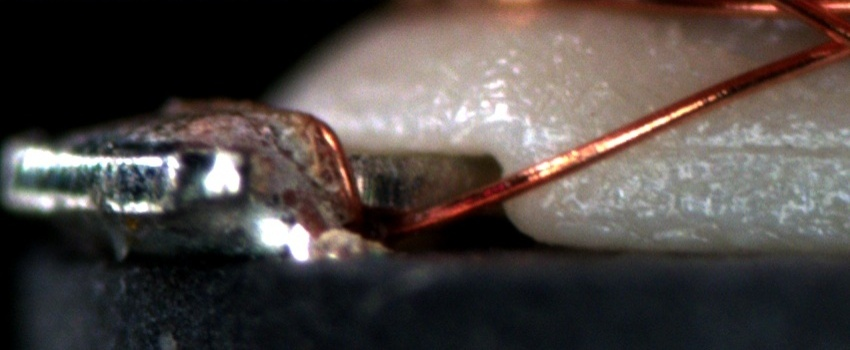CL: (797, 15, 850, 70)
DL: (684, 119, 850, 176)
TE: (316, 113, 373, 209)
